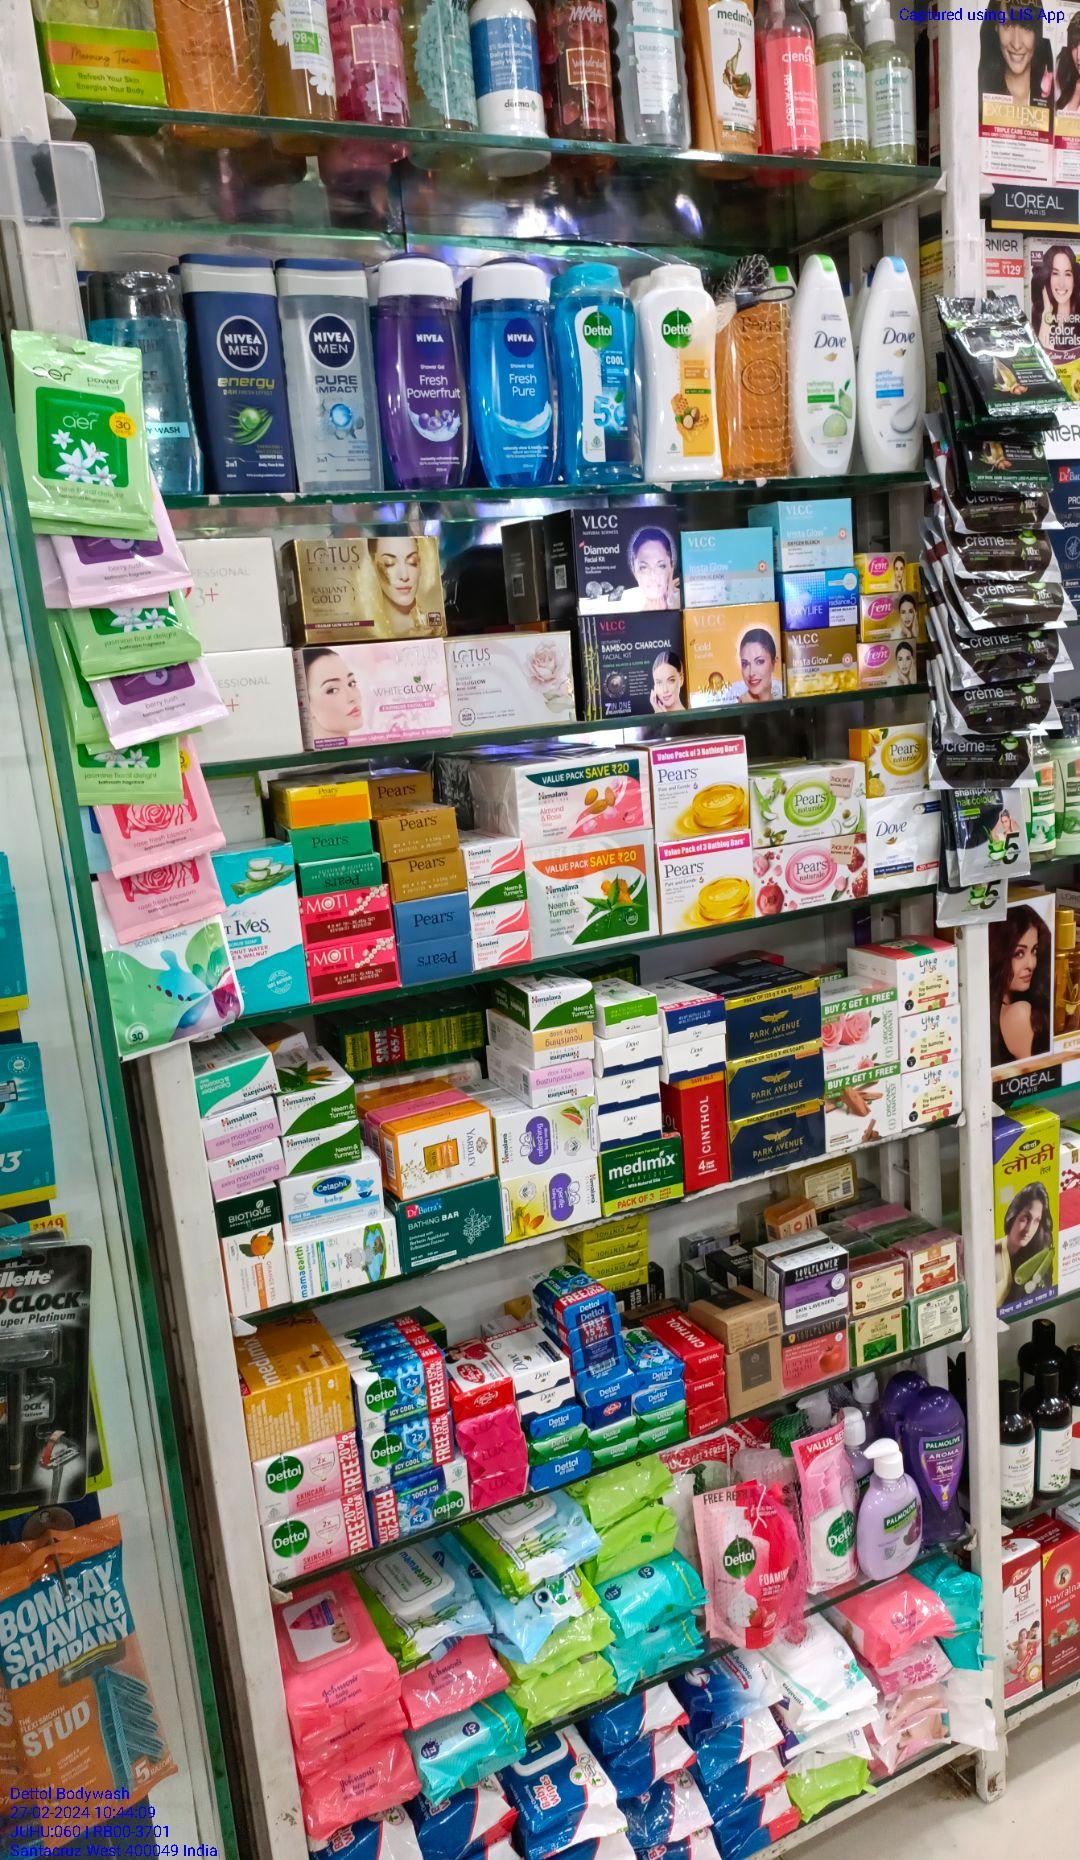Dettol_Bodywash_Cool: (561, 265, 639, 487)
Dettol_Nourish_Body_Wash_250ML: (643, 256, 720, 483)
Dove_Gentle_Exfoliating_Body_Wash_250ML: (867, 252, 932, 476)
Dove_Refreshing_Body_Wash_250ML: (789, 249, 858, 481)
Nivea_Shower_Gel_Fresh_Powerfruit_250ML: (377, 249, 468, 499)
Palmolive_Aroma_Relax_250ML: (919, 1387, 964, 1545)
